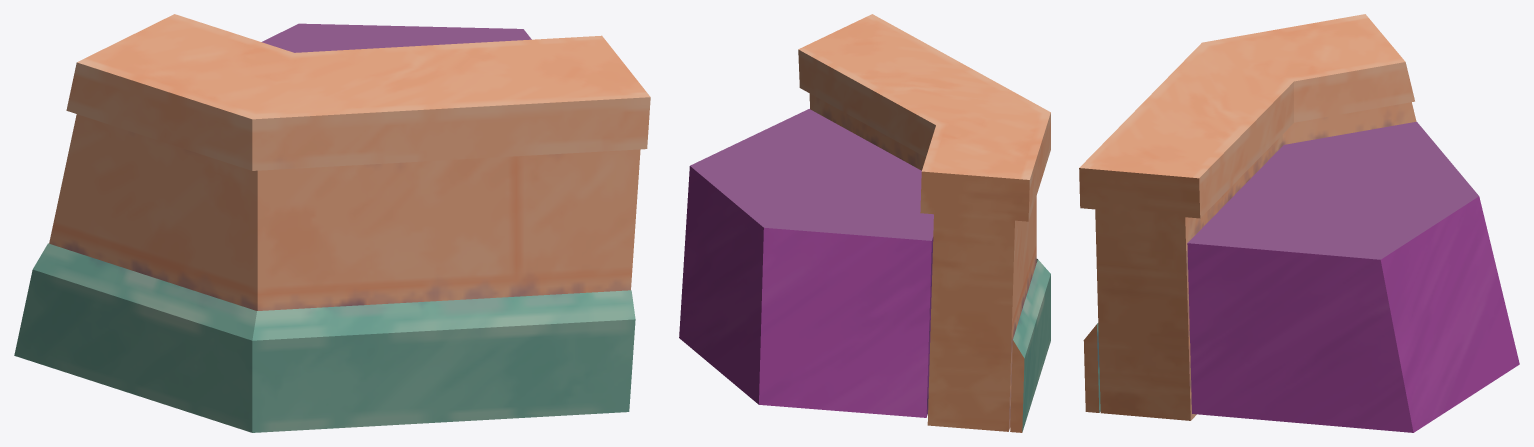
Rendered from vat_plum_s05.fbx.
3 views of the same model, side by side, from view 1: azimuth 30°, elevation 25°; view 2: azimuth 150°, elevation 25°; view 3: azimuth 270°, elevation 25° (orthographic). The views are drawn at different scales.
Visible parts, largest first — view 1: vat_plum_s05; view 2: vat_plum_s05; view 3: vat_plum_s05.
Boxes of the visible parts, bbox=[...] form: vat_plum_s05: bbox=[14, 14, 650, 432]; vat_plum_s05: bbox=[679, 14, 1050, 432]; vat_plum_s05: bbox=[1079, 14, 1519, 432].
Size of the model in its own units: 2.74 by 1.7 by 2.71.
